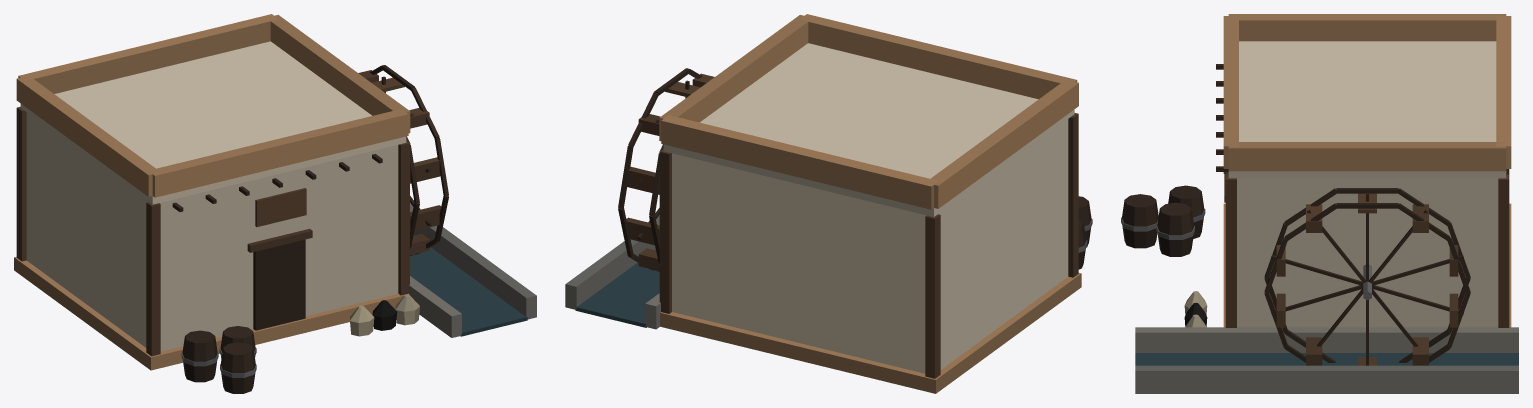
File: walk_sunborn_mill.glb
3 views of the same model, side by side, from view 1: azimuth 30°, elevation 25°; view 2: azimuth 150°, elevation 25°; view 3: azimuth 270°, elevation 25° (orthographic). The views are drawn at different scales.
Visible parts, largest first — view 1: walk_sunborn_mill, walk_sunborn_mill_roof; view 2: walk_sunborn_mill, walk_sunborn_mill_roof; view 3: walk_sunborn_mill, walk_sunborn_mill_roof.
Part boxes in pixels (x1,y1,x2,y2): walk_sunborn_mill: (14,65,536,393); walk_sunborn_mill_roof: (16,14,410,204); walk_sunborn_mill: (565,68,1092,393); walk_sunborn_mill_roof: (659,14,1078,216); walk_sunborn_mill: (1121,64,1518,393); walk_sunborn_mill_roof: (1223,14,1511,178).
Size of what is drawn, in the model's own units: 8.28 by 4.55 by 7.88.
2 materials, 2 textured.
